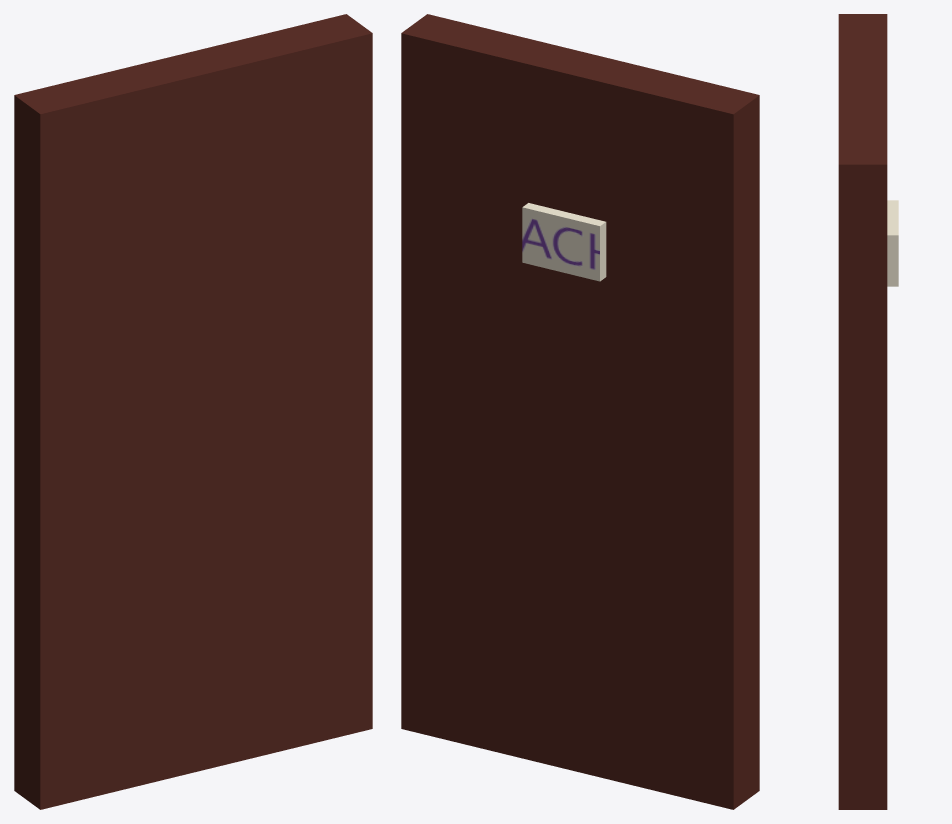
The model's file is SM_Door_2B.fbx.
3 views of the same model, side by side, from view 1: azimuth 30°, elevation 25°; view 2: azimuth 150°, elevation 25°; view 3: azimuth 270°, elevation 25° (orthographic). The views are drawn at different scales.
Parts seen in each view (by area): view 1: SM_Door2B; view 2: SM_Door2B; view 3: SM_Door2B.
Boxes of the visible parts, x1,y1,x2,y2 form: SM_Door2B: (14,14,372,809); SM_Door2B: (401,14,759,809); SM_Door2B: (838,14,898,809).
Bounding box in the file's own units: 1 × 2 × 0.4198.
